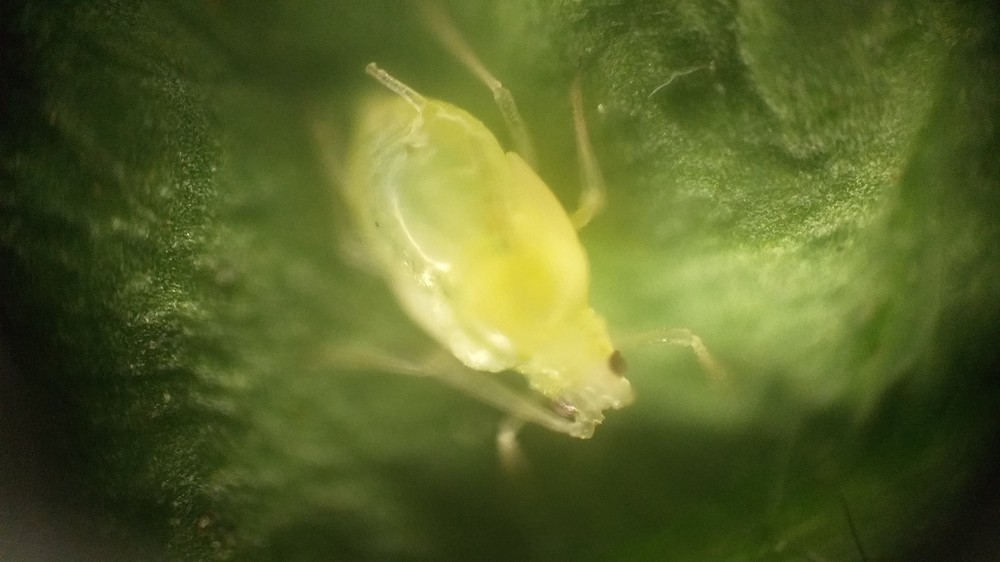Pulgon: (252, 9, 763, 507)
